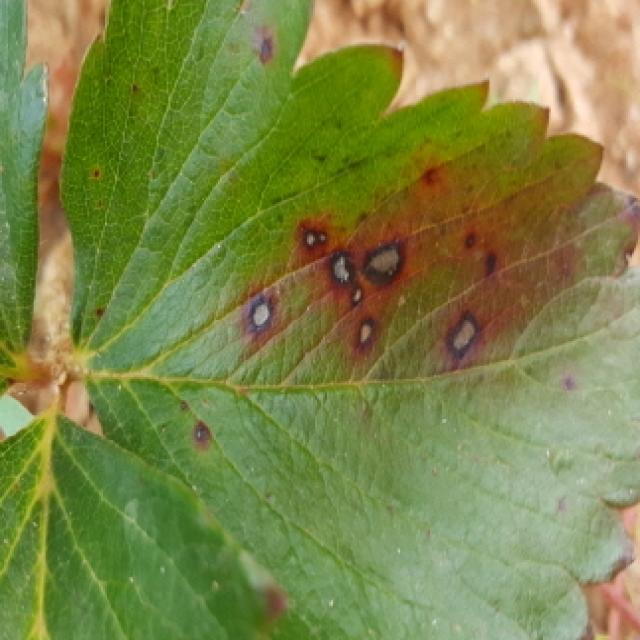Leaf Spot: (58, 0, 640, 640)
